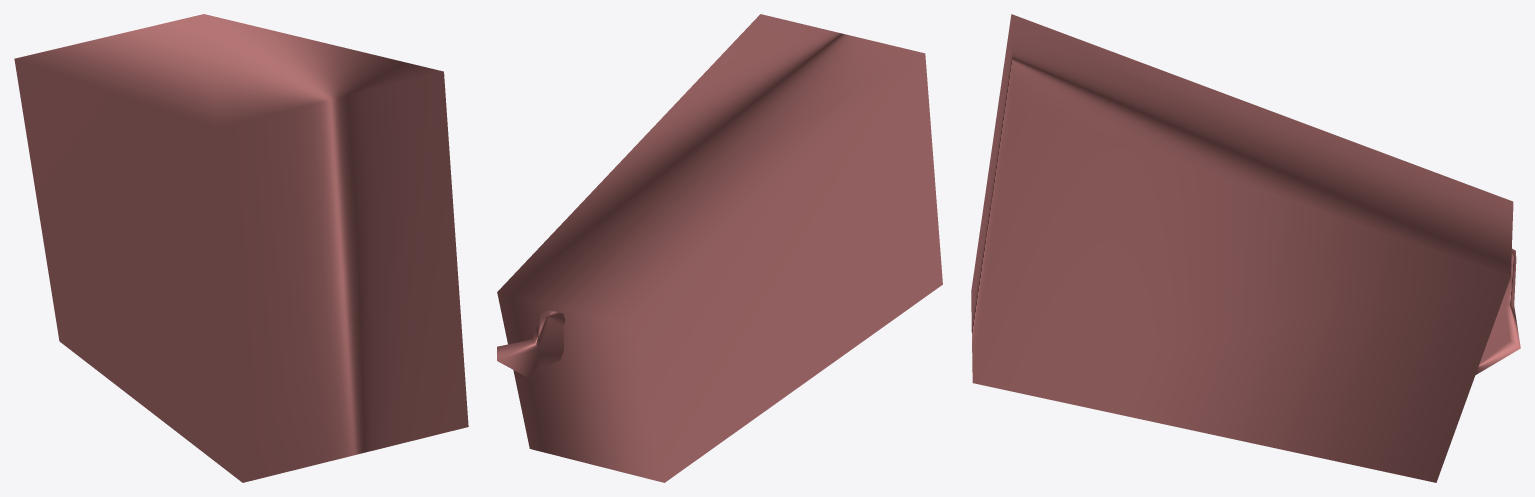
File: pinger_plate_back_left_scaled.dae
3 views of the same model, side by side, from view 1: azimuth 30°, elevation 25°; view 2: azimuth 150°, elevation 25°; view 3: azimuth 270°, elevation 25° (orthographic). The views are drawn at different scales.
Visible parts, largest first — view 1: pinger_plate_back_left_scaled; view 2: pinger_plate_back_left_scaled; view 3: pinger_plate_back_left_scaled.
Part boxes in pixels (x1,y1,x2,y2): pinger_plate_back_left_scaled: (14,14,468,482); pinger_plate_back_left_scaled: (497,14,942,482); pinger_plate_back_left_scaled: (971,14,1520,482).
Bounding box in the file's own units: 0.7158 × 1.43 × 1.01.
